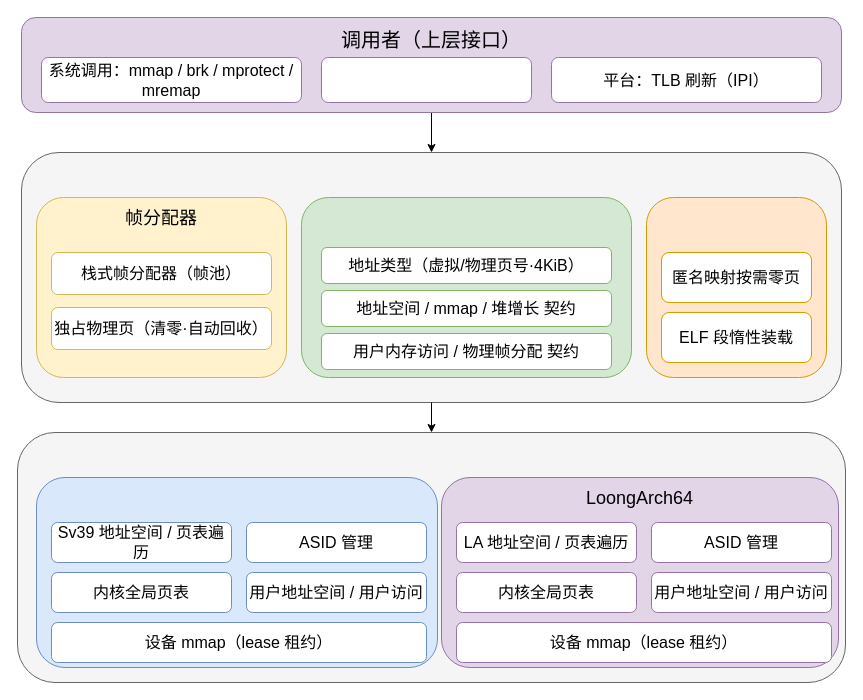
Image size: 863x700. Some labels were removed from this diagram. Here are the shapes that lost their labels. From the top down, the box of each, then its label:
(320, 56, 532, 102): 任务：fork 复制地址空间
(20, 152, 842, 402): 核心组件
(300, 196, 632, 378): 语义契约
(646, 196, 826, 378): 共享实现
(36, 476, 438, 668): Sv39（RISC-V）
(16, 432, 846, 682): 架构实现（互斥编译）
